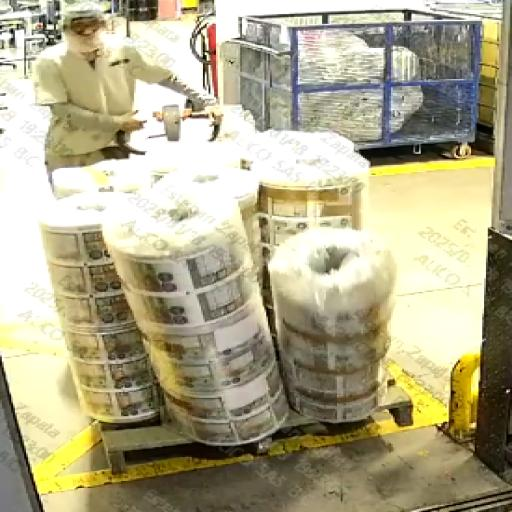rollos caidos: (32, 23, 393, 450)
